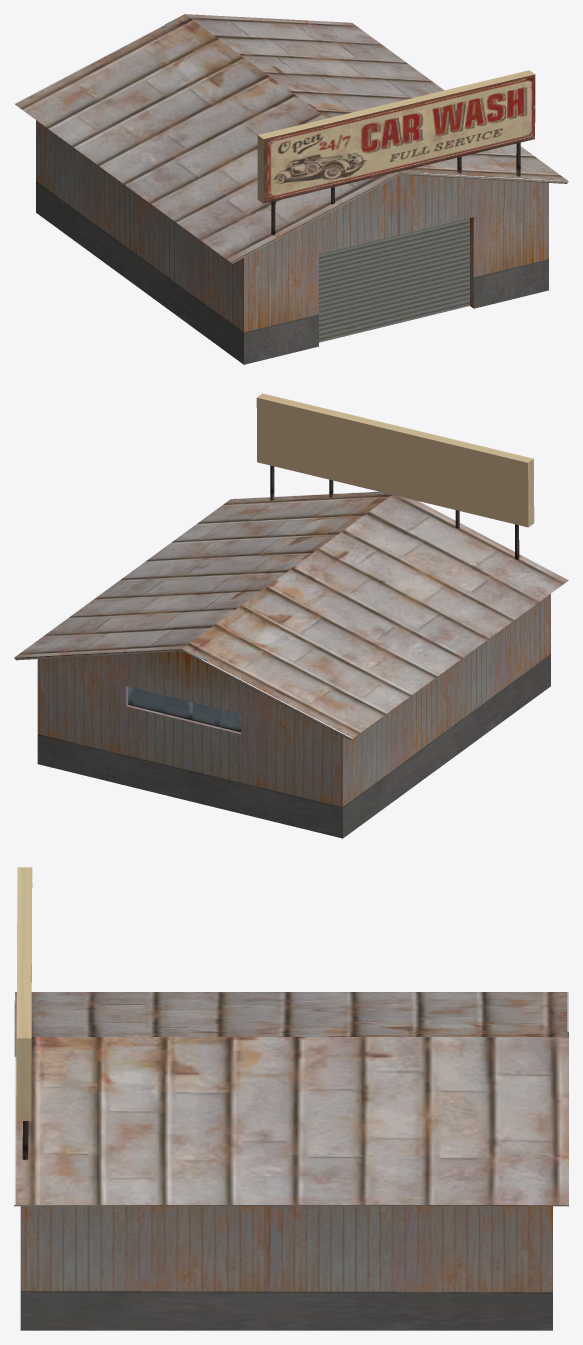
File: Old Car wash.fbx
The picture shows the model from 3 angles, top to bottom: view 1: azimuth 30°, elevation 25°; view 2: azimuth 150°, elevation 25°; view 3: azimuth 270°, elevation 25°; orthographic projection. The views are drawn at different scales.
Visible parts, largest first — view 1: Car wash old; view 2: Car wash old; view 3: Car wash old.
Boxes of the visible parts, box(x1,y1,x2,y2) form: Car wash old: box(14, 14, 568, 364); Car wash old: box(14, 393, 568, 838); Car wash old: box(14, 867, 568, 1330).
Bounding box in the file's own units: 10624 × 6668 × 11797.
Materials: 1 (1 with a texture image).
